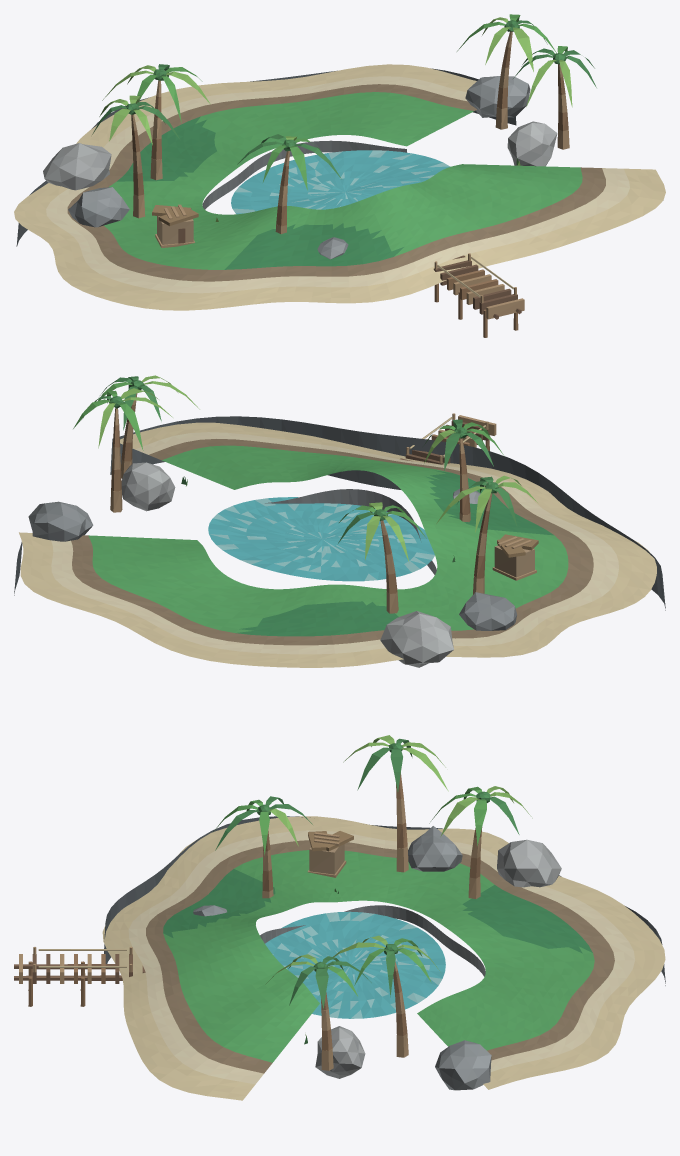
Rendered from island_crescent_bay.glb.
3 views of the same model, one above another, from view 1: azimuth 30°, elevation 25°; view 2: azimuth 150°, elevation 25°; view 3: azimuth 270°, elevation 25° (orthographic). The views are drawn at different scales.
Parts seen in each view (by area): view 1: Crescent_bay_curved_terrain, Crescent_bay_inner_lagoon, Crescent_bay_headland_1, Crescent_bay_headland_2, Crescent_bay_headland_3, Crescent_bay_headland_0, Crescent_bay_inner_rock_wall, Crescent_bay_fisher_hut_walls, Crescent_bay_outer_rock_wall, Crescent_bay_headland_4, Crescent_bay_fishing_pier_deckplank_9; view 2: Crescent_bay_curved_terrain, Crescent_bay_inner_lagoon, Crescent_bay_outer_rock_wall, Crescent_bay_headland_1, Crescent_bay_headland_3, Crescent_bay_headland_2, Crescent_bay_headland_0, Crescent_bay_inner_rock_wall, Crescent_bay_fisher_hut_walls; view 3: Crescent_bay_curved_terrain, Crescent_bay_inner_lagoon, Crescent_bay_headland_1, Crescent_bay_headland_2, Crescent_bay_headland_0, Crescent_bay_inner_rock_wall, Crescent_bay_outer_rock_wall, Crescent_bay_headland_3, Crescent_bay_fisher_hut_walls.
Part boxes in pixels (x1=…): Crescent_bay_curved_terrain: x1=14, y1=64, x2=665, y2=310; Crescent_bay_inner_lagoon: x1=231, y1=150, x2=450, y2=214; Crescent_bay_headland_1: x1=43, y1=143, x2=111, y2=190; Crescent_bay_headland_2: x1=465, y1=76, x2=530, y2=117; Crescent_bay_headland_3: x1=507, y1=121, x2=557, y2=166; Crescent_bay_headland_0: x1=68, y1=187, x2=129, y2=227; Crescent_bay_inner_rock_wall: x1=202, y1=140, x2=406, y2=209; Crescent_bay_fisher_hut_walls: x1=157, y1=216, x2=193, y2=244; Crescent_bay_outer_rock_wall: x1=16, y1=68, x2=516, y2=246; Crescent_bay_headland_4: x1=317, y1=237, x2=348, y2=259; Crescent_bay_fishing_pier_deckplank_9: x1=486, y1=298, x2=524, y2=319; Crescent_bay_curved_terrain: x1=19, y1=422, x2=656, y2=667; Crescent_bay_inner_lagoon: x1=208, y1=497, x2=434, y2=581; Crescent_bay_outer_rock_wall: x1=14, y1=416, x2=665, y2=610; Crescent_bay_headland_1: x1=380, y1=611, x2=453, y2=667; Crescent_bay_headland_3: x1=121, y1=462, x2=175, y2=511; Crescent_bay_headland_2: x1=28, y1=501, x2=93, y2=541; Crescent_bay_headland_0: x1=459, y1=592, x2=516, y2=630; Crescent_bay_inner_rock_wall: x1=265, y1=489, x2=436, y2=574; Crescent_bay_fisher_hut_walls: x1=494, y1=545, x2=534, y2=577; Crescent_bay_curved_terrain: x1=102, y1=816, x2=665, y2=1100; Crescent_bay_inner_lagoon: x1=265, y1=911, x2=445, y2=1018; Crescent_bay_headland_1: x1=497, y1=839, x2=561, y2=887; Crescent_bay_headland_2: x1=435, y1=1040, x2=491, y2=1090; Crescent_bay_headland_0: x1=408, y1=826, x2=462, y2=871; Crescent_bay_inner_rock_wall: x1=260, y1=905, x2=485, y2=976; Crescent_bay_outer_rock_wall: x1=104, y1=816, x2=665, y2=985; Crescent_bay_headland_3: x1=315, y1=1026, x2=365, y2=1078; Crescent_bay_fisher_hut_walls: x1=309, y1=844, x2=344, y2=874.
Bounding box in the file's own units: 21.83 × 5.83 × 20.83.
